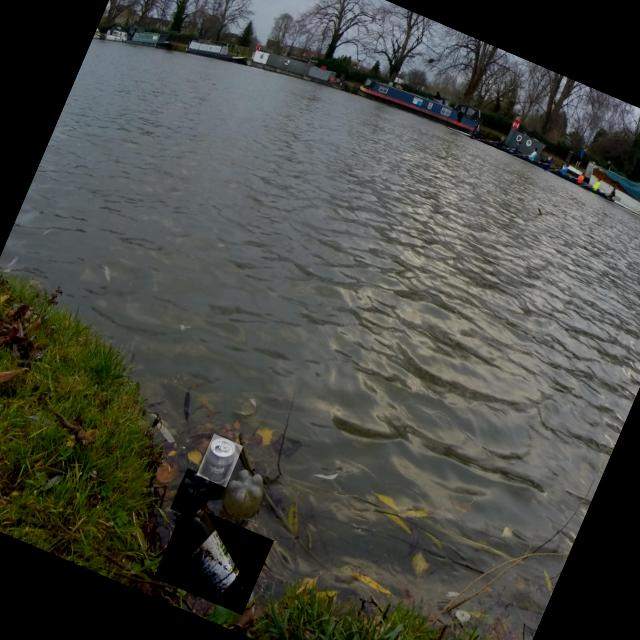Clear plastic bottle: (167, 511, 247, 607), (223, 469, 262, 519), (175, 473, 209, 515)
Drink can: (198, 438, 234, 482)
Pop tab: (219, 445, 230, 451)
